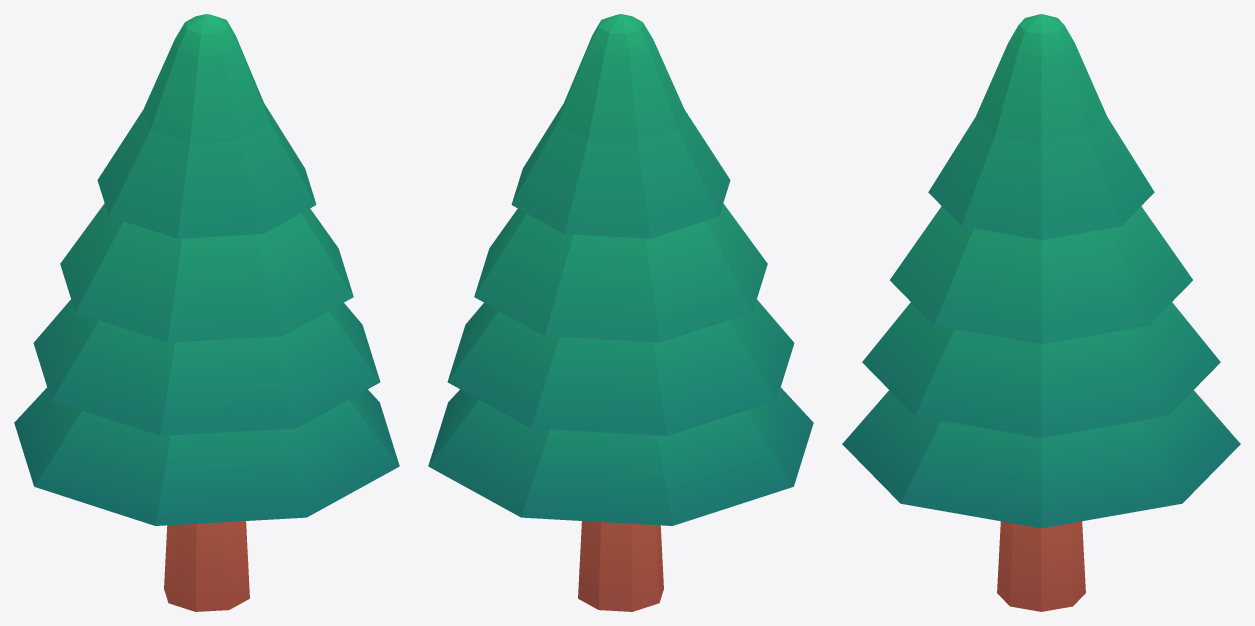
The model's file is Tree1_Green.glb.
The picture shows the model from 3 angles, left to right: view 1: azimuth 30°, elevation 25°; view 2: azimuth 150°, elevation 25°; view 3: azimuth 270°, elevation 25°; orthographic projection.
Visible parts, largest first — view 1: Tree1_Green; view 2: Tree1_Green; view 3: Tree1_Green.
Part boxes in pixels (x1,y1,x2,y2): Tree1_Green: (14, 14, 399, 611); Tree1_Green: (428, 14, 813, 611); Tree1_Green: (842, 14, 1240, 611).
Size of the model in its own units: 2.94 by 4.7 by 2.94.
1 material, 1 textured.
